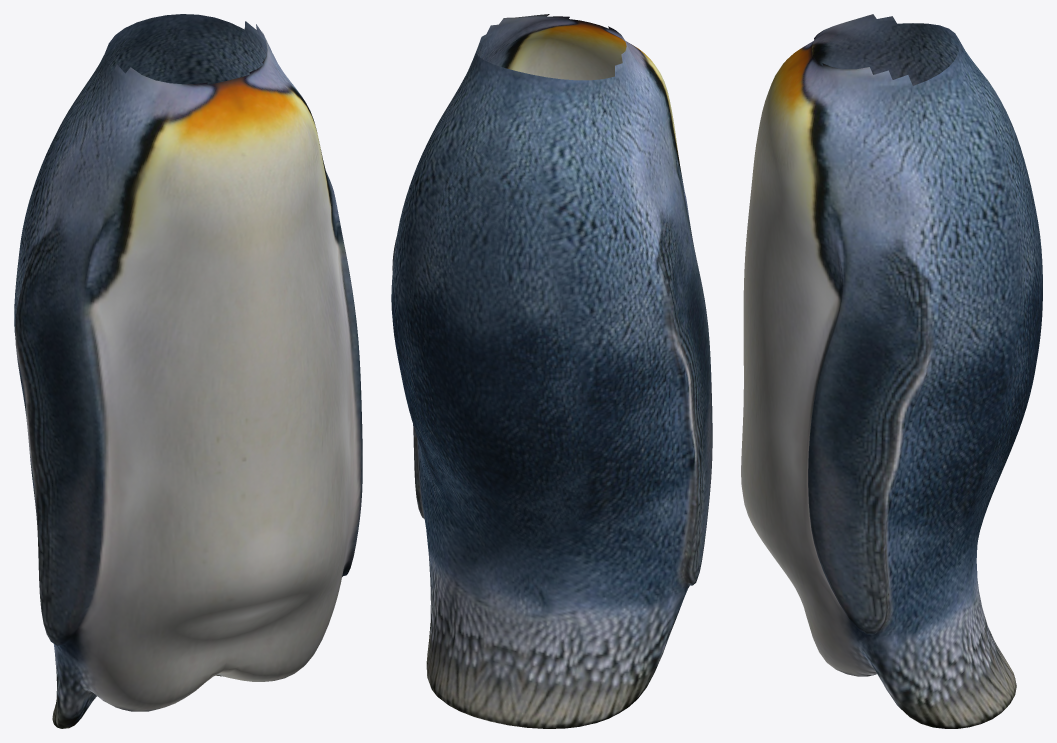
Rendered from cuerpoPinguino.obj.
3 views of the same model, side by side, from view 1: azimuth 30°, elevation 25°; view 2: azimuth 150°, elevation 25°; view 3: azimuth 270°, elevation 25° (orthographic). The views are drawn at different scales.
Parts seen in each view (by area): view 1: pinguin; view 2: pinguin; view 3: pinguin.
Boxes of the visible parts, x1,y1,x2,y2 form: pinguin: (14,14,362,728); pinguin: (391,14,712,728); pinguin: (741,14,1042,728).
Size of the model in its own units: 3.45 by 7.33 by 3.09.
1 material, 1 textured.
